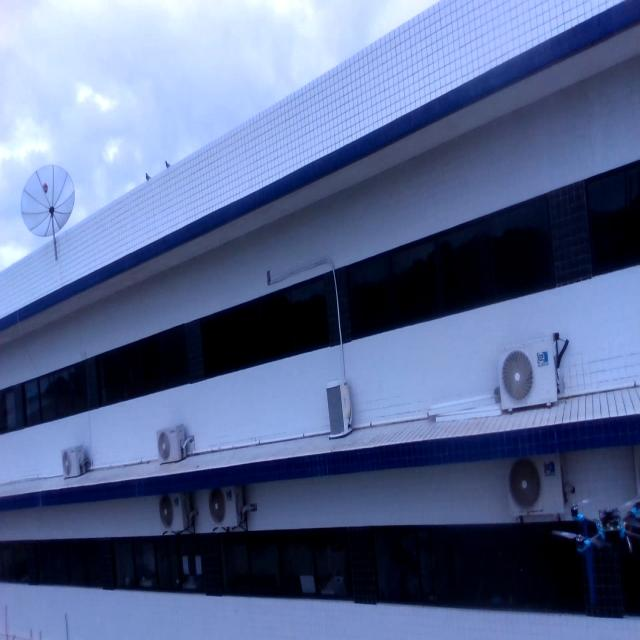-uav-: (546, 492, 640, 622)
